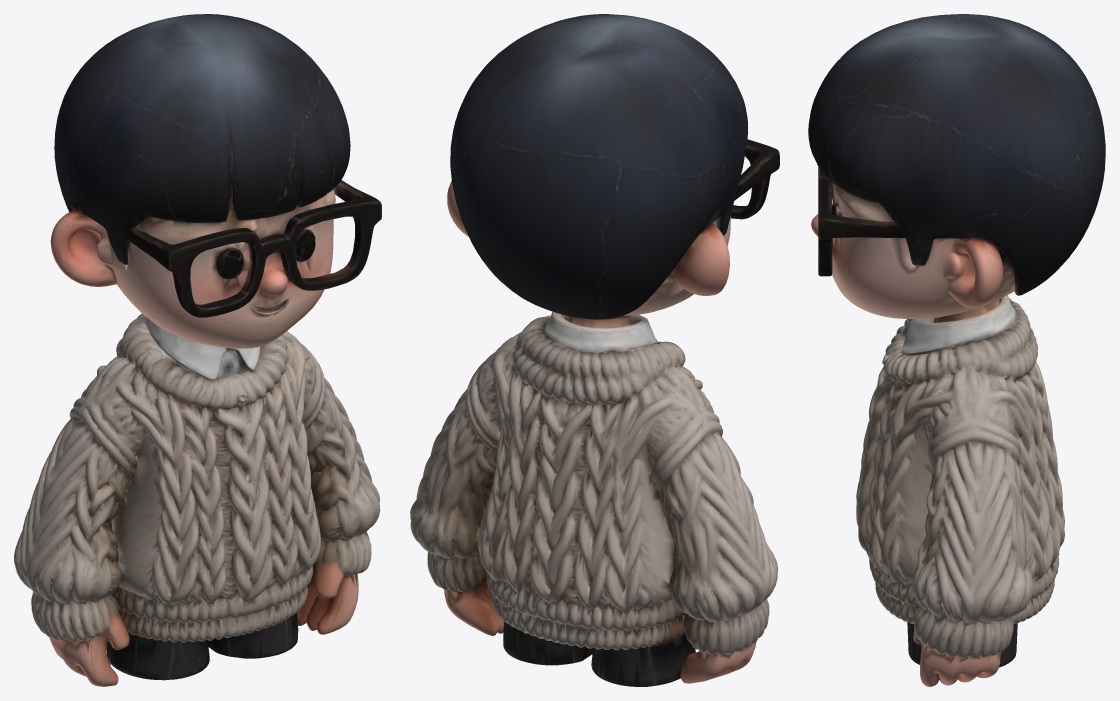
Rendered from sujeto.glb.
3 renders of one model, left to right at view 1: azimuth 30°, elevation 25°; view 2: azimuth 150°, elevation 25°; view 3: azimuth 270°, elevation 25°, orthographic. The views are drawn at different scales.
Visible parts, largest first — view 1: node_0; view 2: node_0; view 3: node_0.
Boxes of the visible parts, left/top/right/bottom form: node_0: left=14, top=14, right=381, bottom=686; node_0: left=410, top=14, right=779, bottom=686; node_0: left=808, top=14, right=1105, bottom=686.
Size of the model in its own units: 0.6557 by 1.12 by 0.5039.
Materials: 1 (1 with a texture image).
